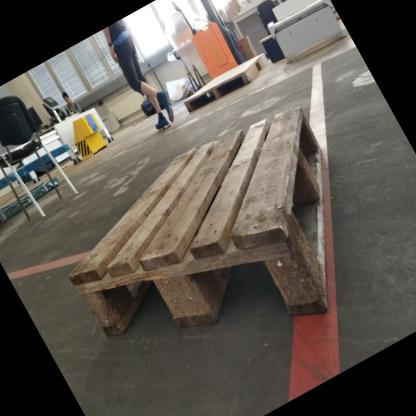BoxFace: (63, 100, 330, 346), (182, 53, 271, 114)
